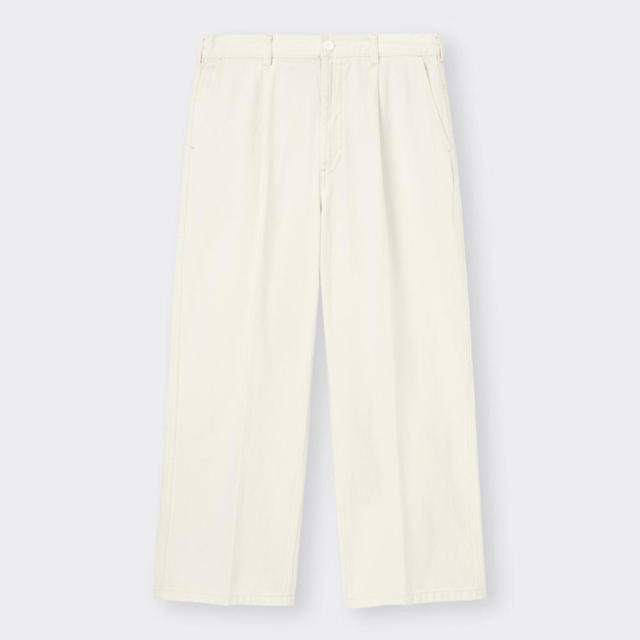long-pants: (150, 31, 489, 613)
